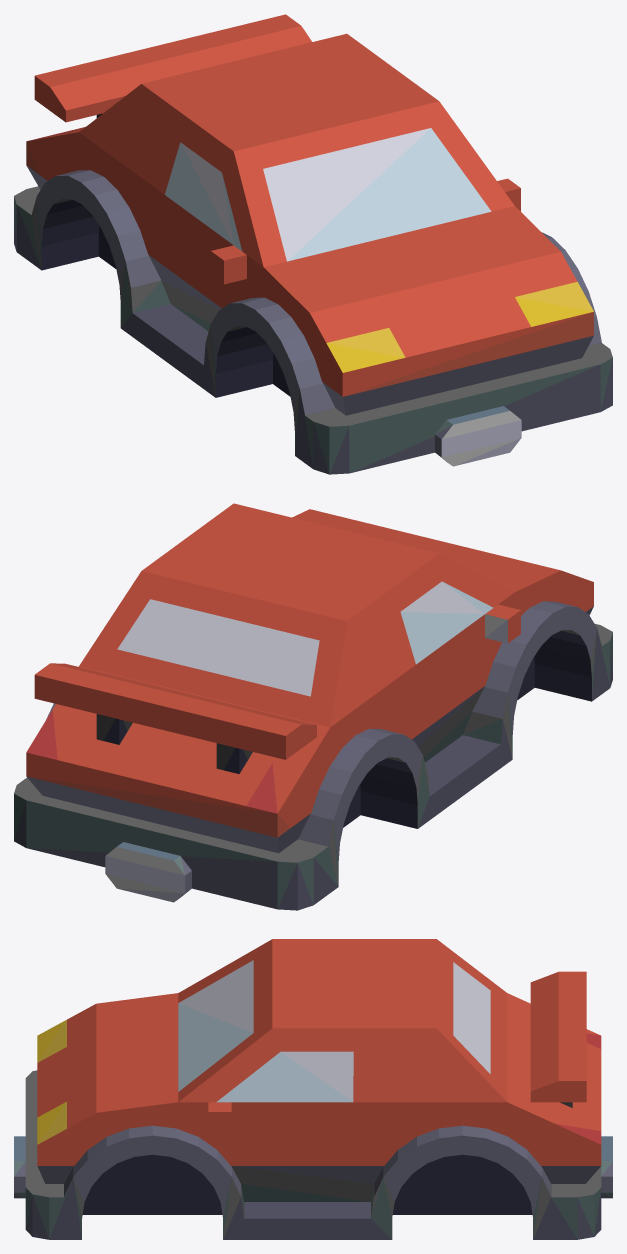
File: bruiser.glb
3 views of the same model, one above another, from view 1: azimuth 30°, elevation 25°; view 2: azimuth 150°, elevation 25°; view 3: azimuth 270°, elevation 25° (orthographic). The views are drawn at different scales.
Visible parts, largest first — view 1: body, spoiler; view 2: body, spoiler; view 3: body, spoiler.
Boxes of the visible parts, x1=… form: body: x1=14, y1=33, x2=612, y2=474; spoiler: x1=34, y1=14, x2=311, y2=122; body: x1=14, y1=503, x2=612, y2=910; spoiler: x1=34, y1=663, x2=316, y2=773; body: x1=14, y1=939, x2=612, y2=1239; spoiler: x1=530, y1=971, x2=586, y2=1107.
Bounding box in the file's own units: 2.21 × 1.61 × 4.34.
